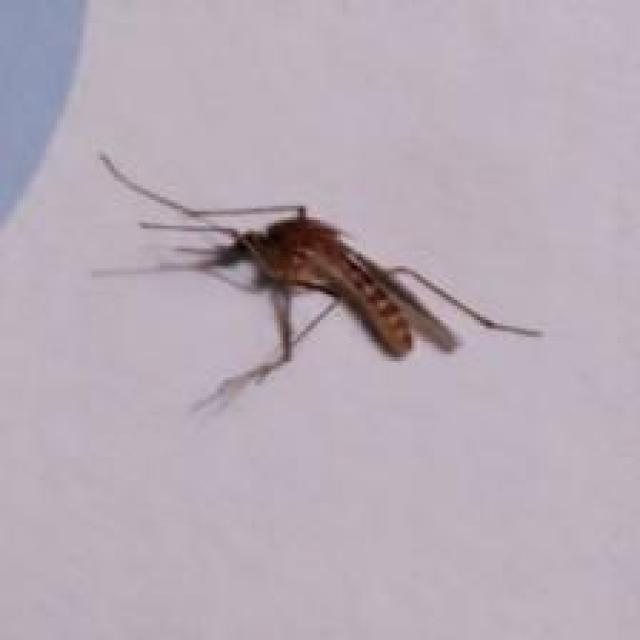Culex: (90, 150, 544, 416)
